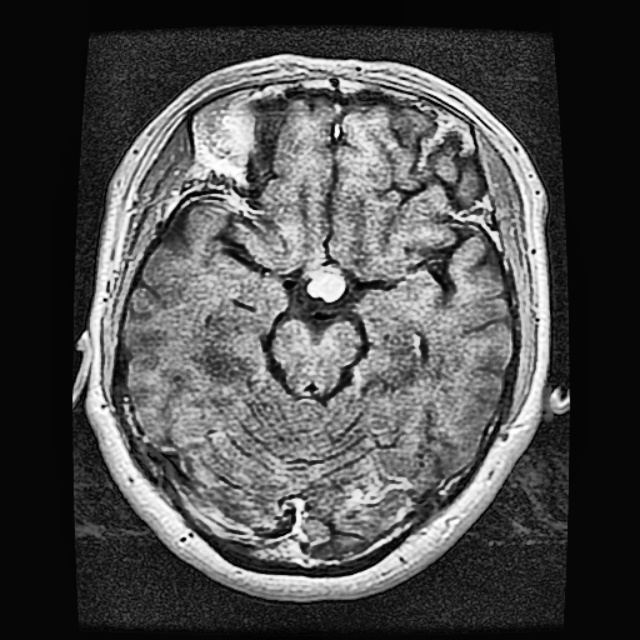Pituitary: (309, 269, 343, 302)
